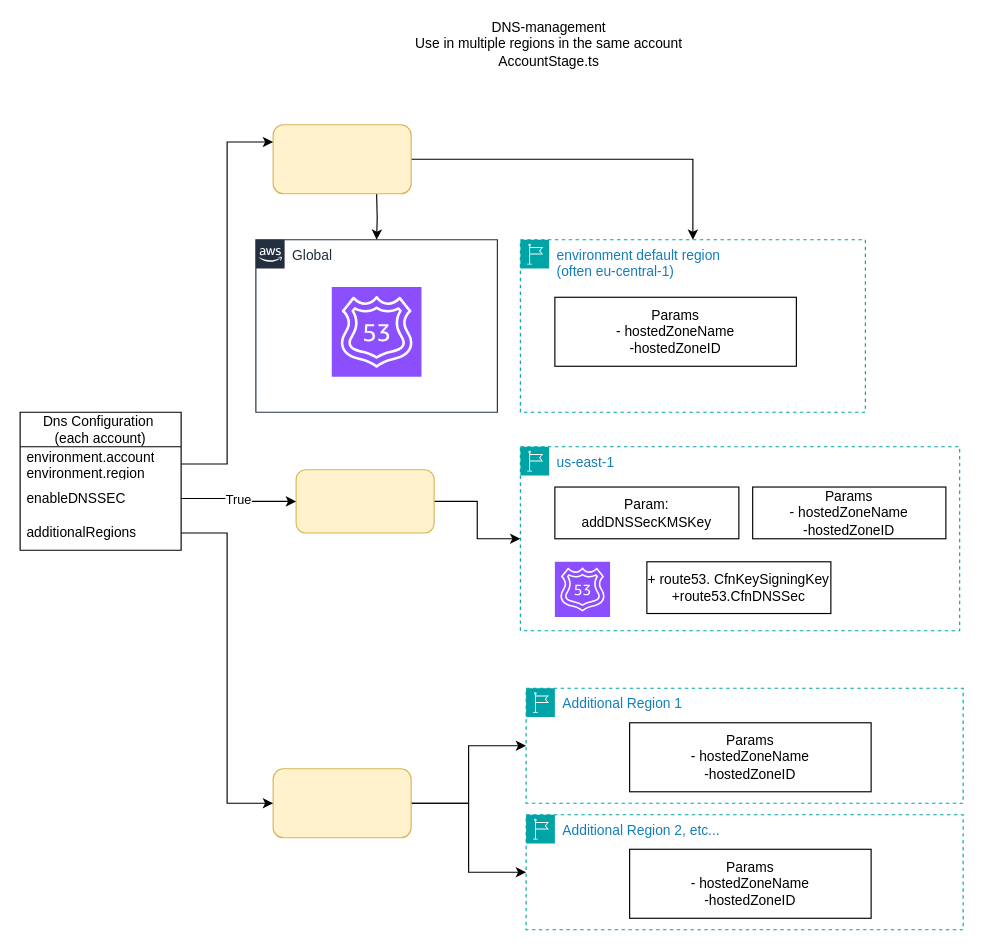
The diagram is 983 pixels wide and 950 high, and some of its shapes have lost their labels. The centre of each missing label's shape, as x and y in pixels:
"DNSSecStack" goes at [364,501].
"DNSStack" goes at [341,159].
"HostedZone ParameterStack" goes at [341,803].
